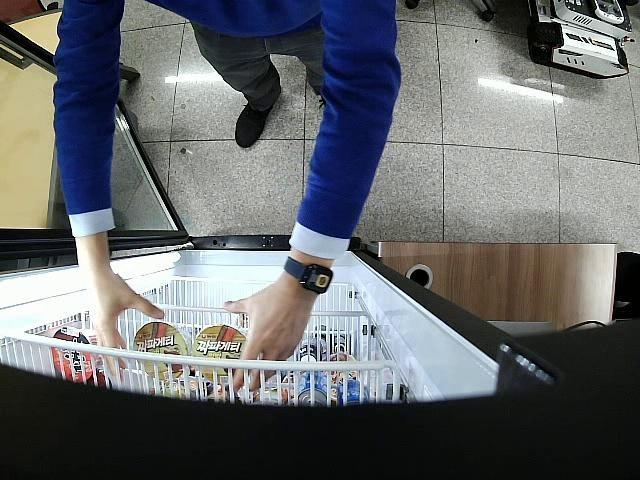04_chapagetti_S: (190, 325, 248, 384), (132, 322, 188, 377)
